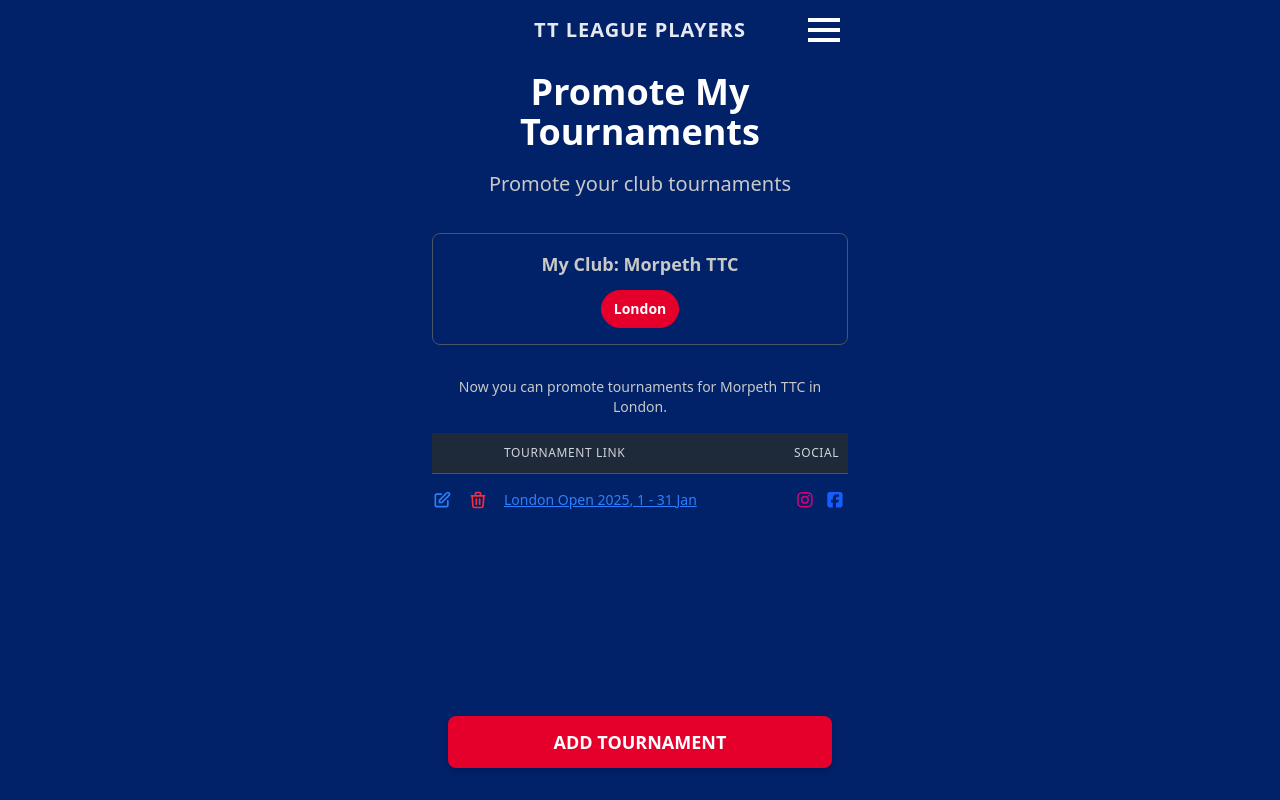
Test: PromoteMyTournaments › tournament delete functionality › opens delete confirmation modal when delete button is clicked
Expected: the link "London Open 2025, 1 - 31 Jan" is shown, [504,490,697,508]
Click the button titled "Delete". click: [478, 500]
box: [468,490,488,510]
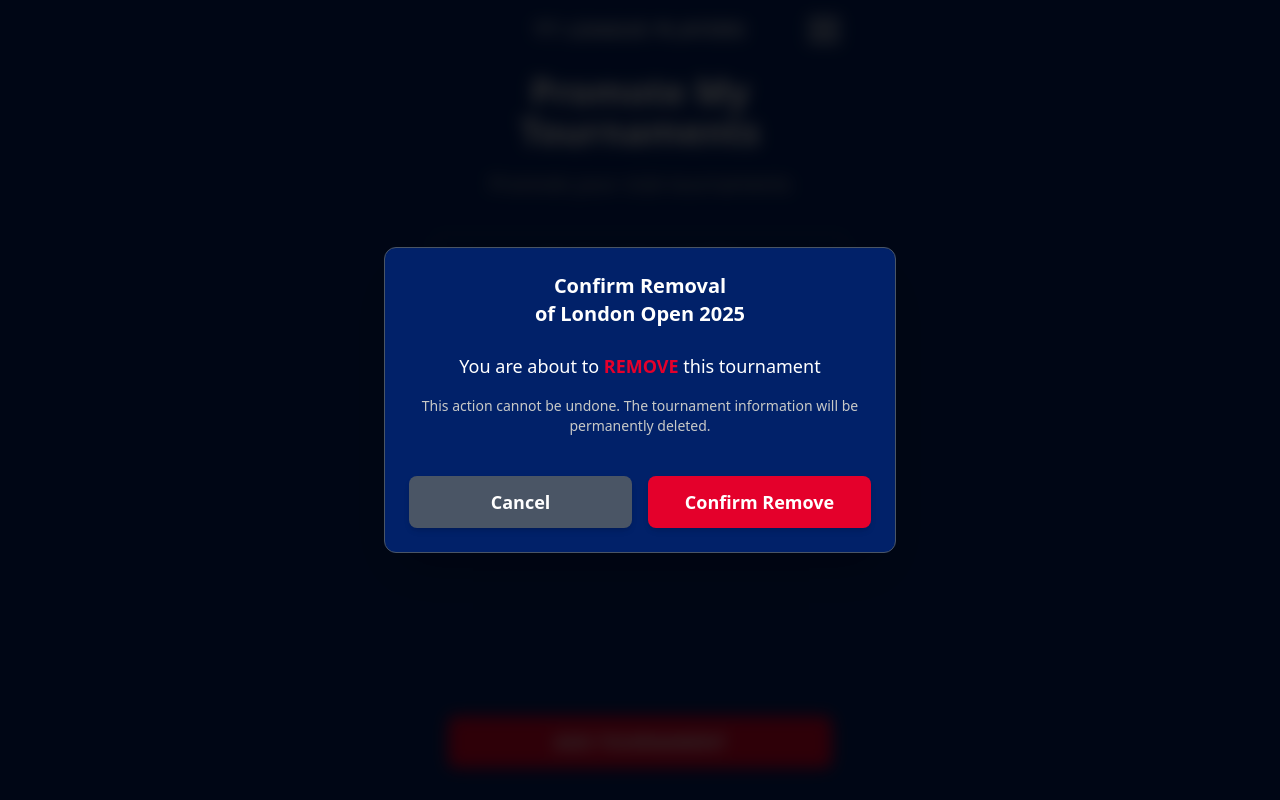
Result: the heading with test id "delete-confirm-title" shows "Confirm Removal" at [554,272,726,299]
Result: the heading with test id "delete-confirm-title" shows "of London Open 2025" at [535,272,745,327]
